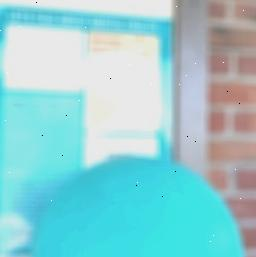algae: (31, 156, 246, 257)
